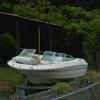Boat: (3, 38, 95, 89)
